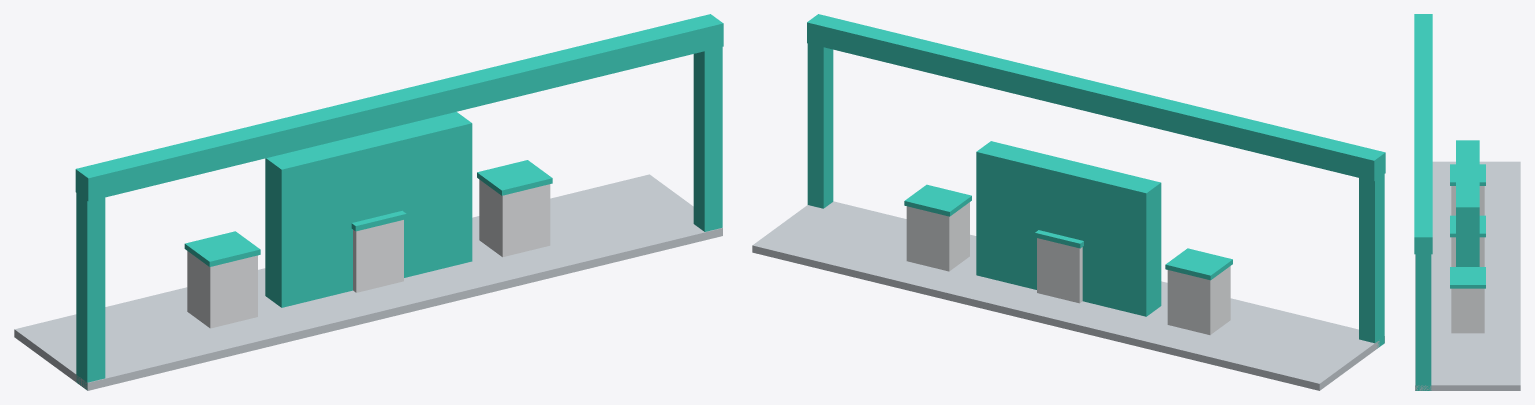
3 renders of one model, left to right at view 1: azimuth 30°, elevation 25°; view 2: azimuth 150°, elevation 25°; view 3: azimuth 270°, elevation 25°, orthographic. The views are drawn at different scales.
Visible parts, largest first — view 1: Exhibition Booth Concept; view 2: Exhibition Booth Concept; view 3: Exhibition Booth Concept.
Part boxes in pixels (bbox=[...]): Exhibition Booth Concept: bbox=[14, 14, 723, 390]; Exhibition Booth Concept: bbox=[752, 14, 1385, 390]; Exhibition Booth Concept: bbox=[1414, 14, 1520, 390].
Size of the model in its own units: 10 by 3.2 by 2.01.
